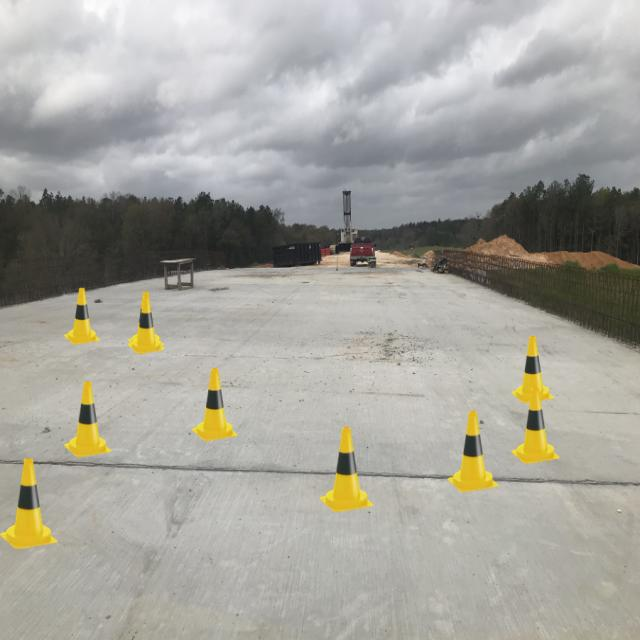yellow_cone: (0, 458, 58, 549), (320, 427, 374, 512), (448, 411, 498, 492), (511, 387, 560, 464), (64, 382, 111, 457), (192, 368, 238, 441), (511, 336, 554, 403), (128, 295, 165, 354), (128, 292, 164, 349), (64, 288, 100, 344)
